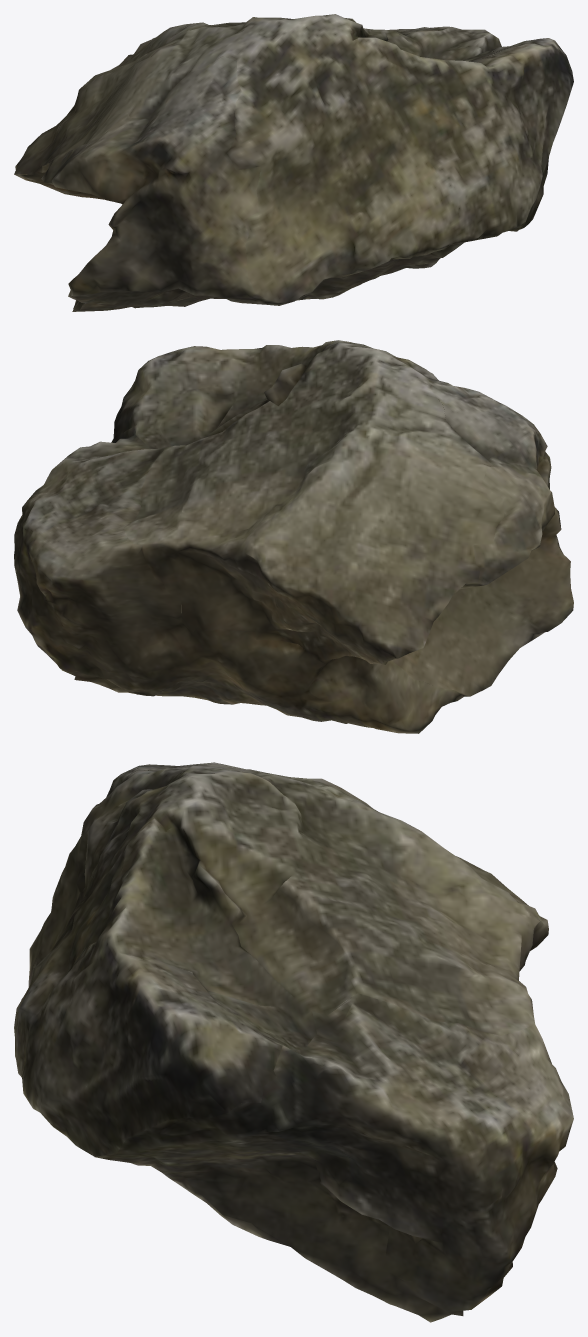
Rendered from moss_stone_11.glb.
The picture shows the model from 3 angles, top to bottom: view 1: azimuth 30°, elevation 25°; view 2: azimuth 150°, elevation 25°; view 3: azimuth 270°, elevation 25°; orthographic projection. The views are drawn at different scales.
Parts seen in each view (by area): view 1: moss_stone_11; view 2: moss_stone_11; view 3: moss_stone_11.
Part boxes in pixels (left/top/right/bottom): moss_stone_11: left=14, top=14, right=573, bottom=311; moss_stone_11: left=14, top=340, right=573, bottom=733; moss_stone_11: left=14, top=762, right=573, bottom=1322.
Size of the model in its own units: 1 by 0.6708 by 0.782.
Materials: 1 (1 with a texture image).
